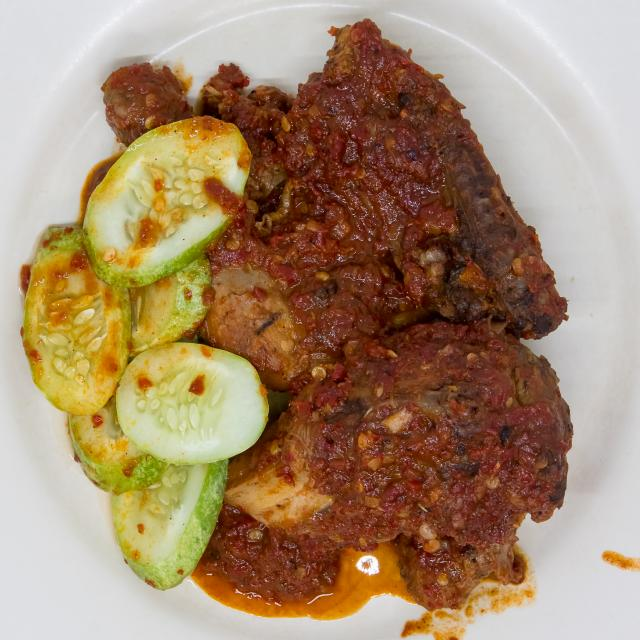Ayam-Bumbu-Rujak: (46, 10, 593, 615)
